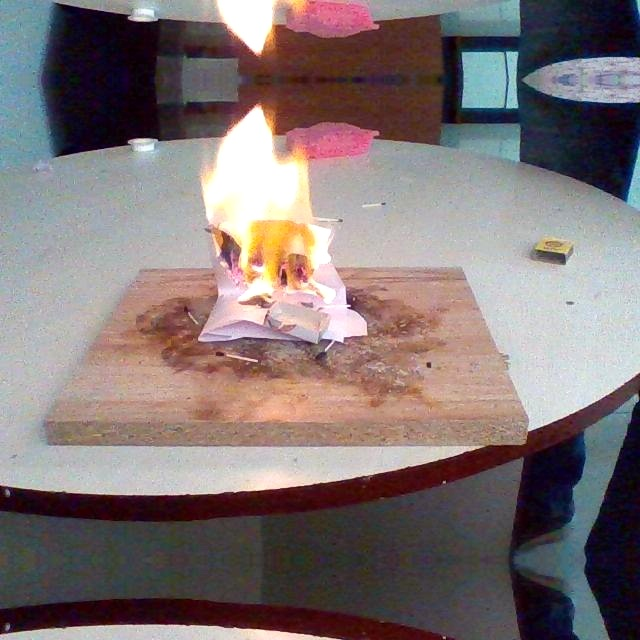fire: (177, 86, 382, 345)
